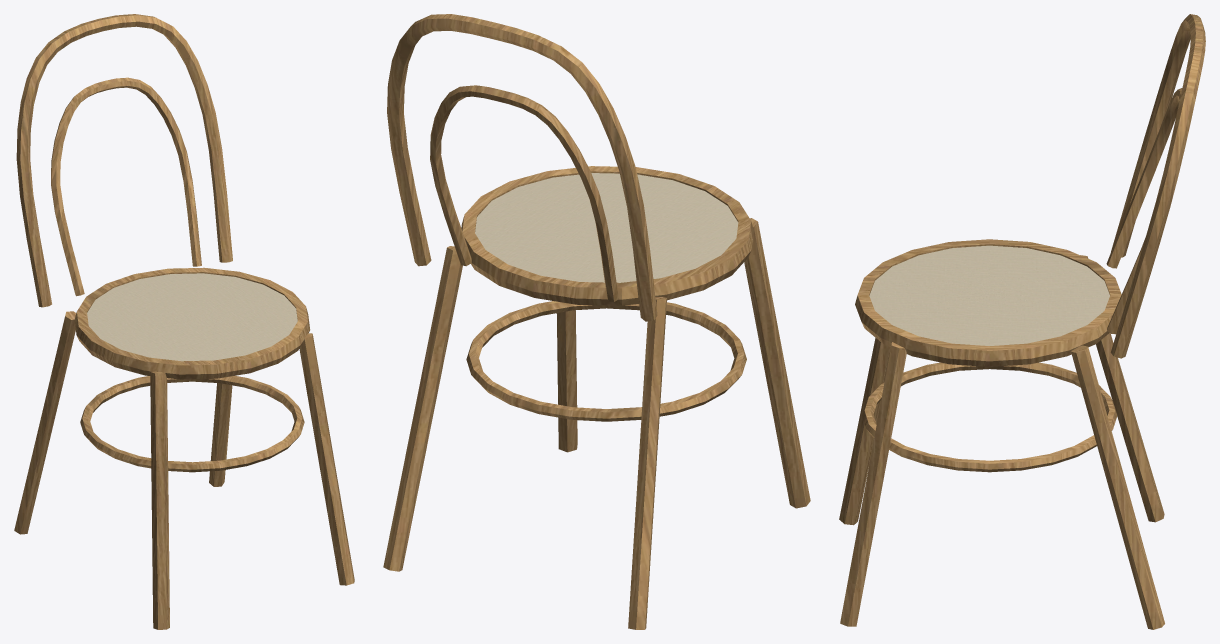
File: bentwood_oak.glb
3 views of the same model, side by side, from view 1: azimuth 30°, elevation 25°; view 2: azimuth 150°, elevation 25°; view 3: azimuth 270°, elevation 25° (orthographic). The views are drawn at different scales.
Visible parts, largest first — view 1: bentwood_oak; view 2: bentwood_oak; view 3: bentwood_oak.
Boxes of the visible parts, x1=… form: bentwood_oak: x1=14, y1=14, x2=354, y2=629; bentwood_oak: x1=383, y1=14, x2=810, y2=629; bentwood_oak: x1=839, y1=14, x2=1205, y2=629.
Bounding box in the file's own units: 0.4269 × 0.93 × 0.5715.
Materials: 2 (2 with a texture image).
